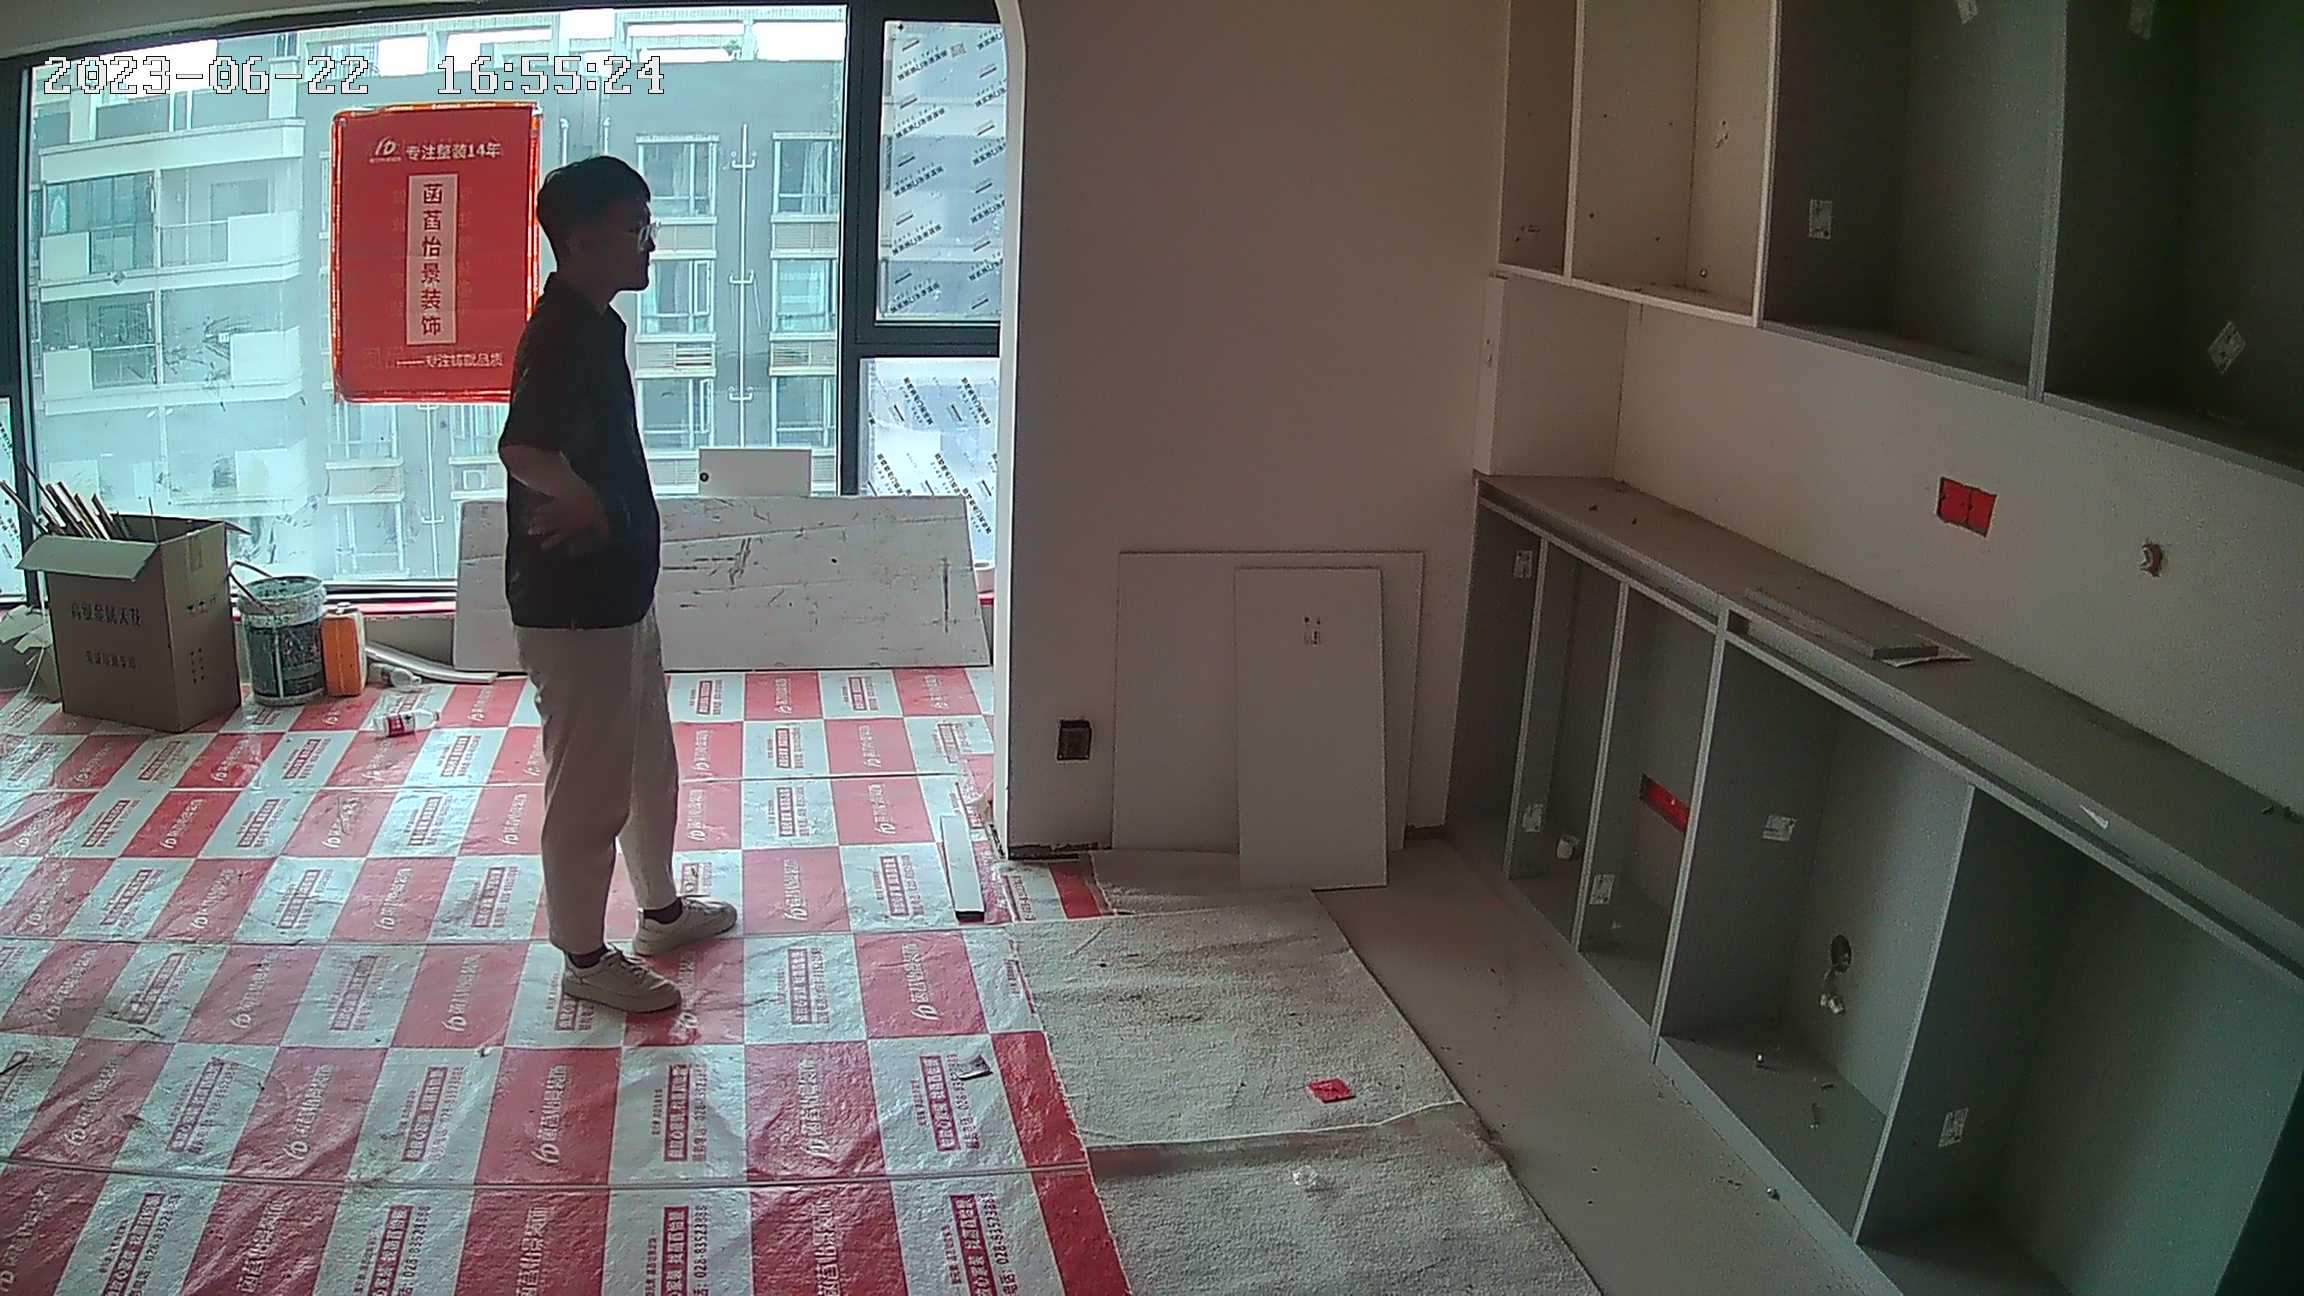people: (484, 164, 754, 1038)
window: (27, 21, 1007, 600)
